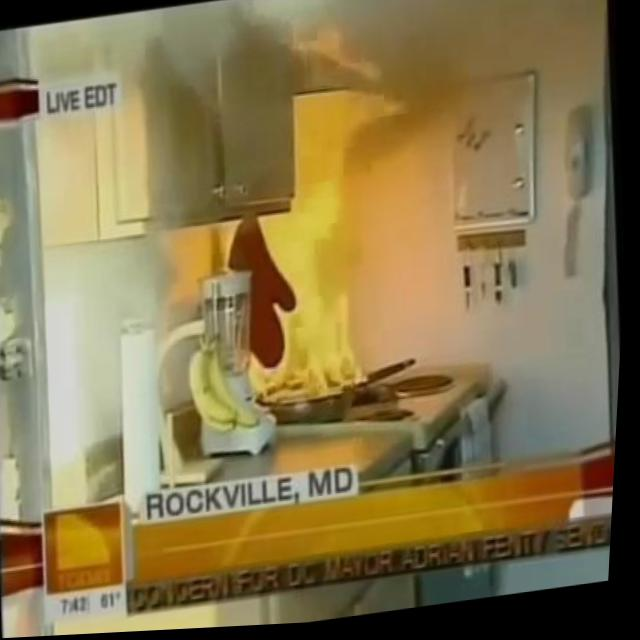fire: (203, 13, 435, 412)
